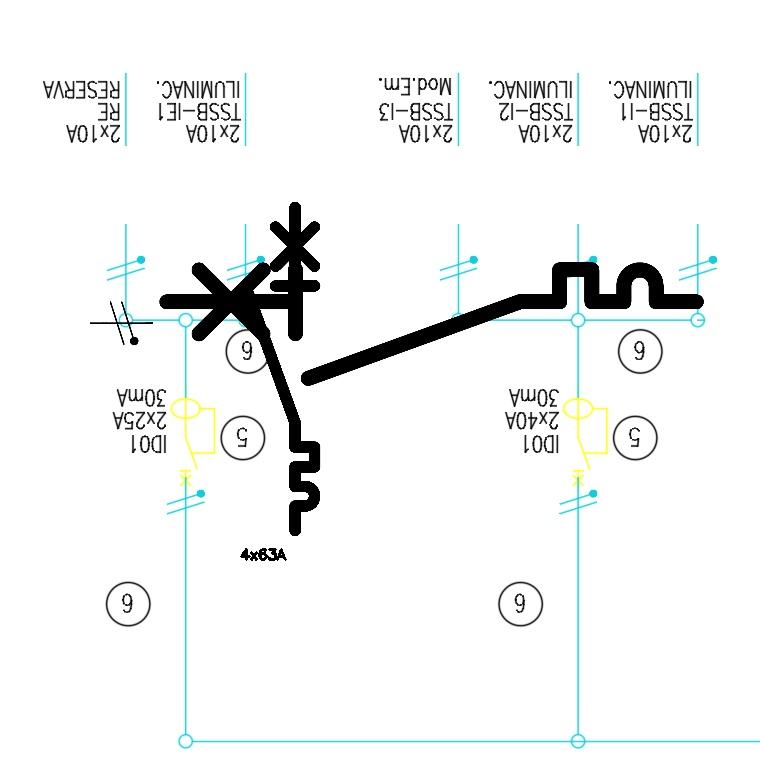interruptor_termomagnetico: (152, 256, 709, 392), (240, 199, 323, 539)
